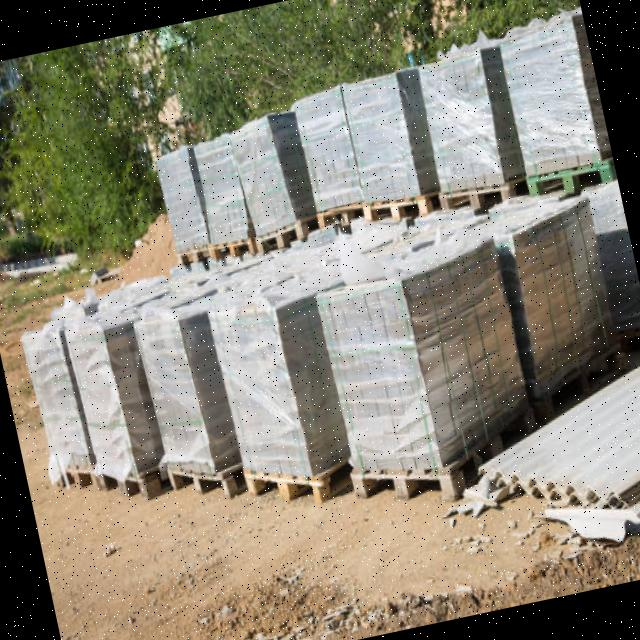Wooden-Pallets: (238, 465, 330, 511), (344, 464, 458, 500), (248, 217, 311, 279), (427, 173, 516, 211), (161, 461, 234, 507), (88, 462, 155, 506), (362, 182, 432, 221), (208, 227, 257, 262)
